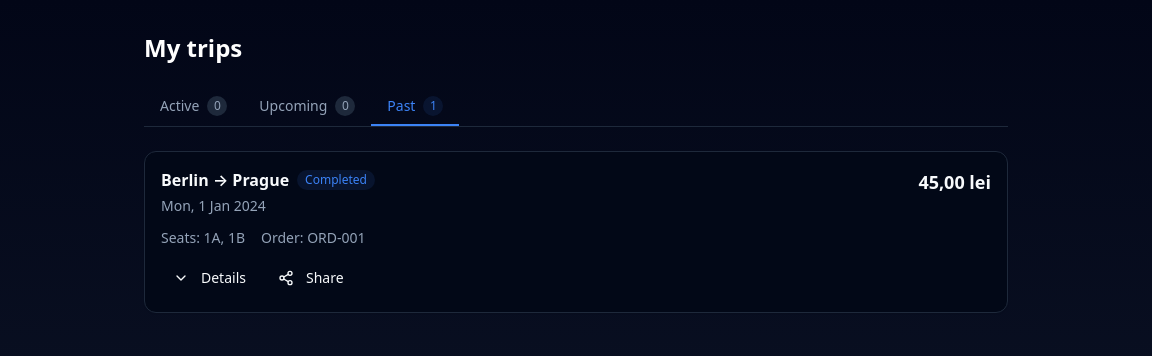
Scenario: MyTripsPage › tabs › shows empty message for tab with no bookings
Click the tab "Upcoming 0". click: (307, 107)
box: [243, 88, 371, 126]
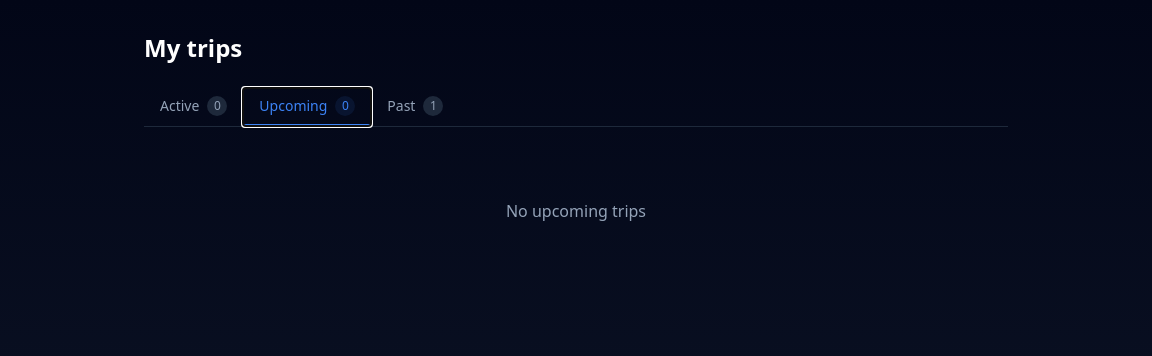
Now the text "No upcoming trips" is shown, box [506, 199, 646, 223]
